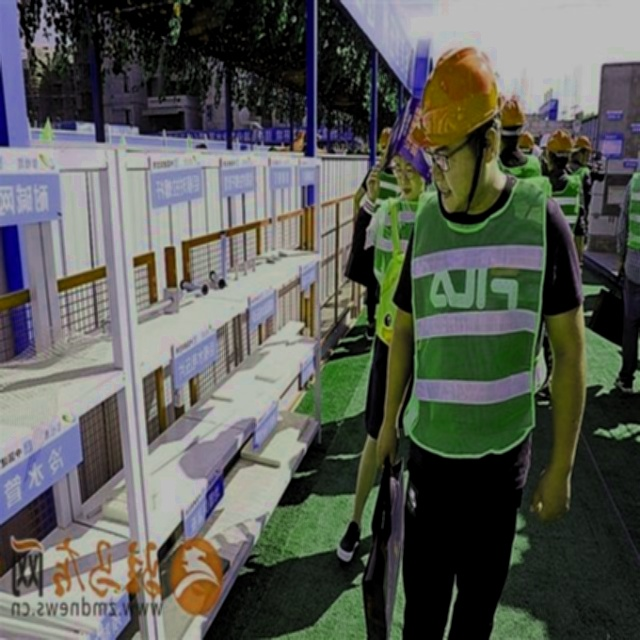Con_Casco: (411, 48, 504, 200)
Con_Chaleco: (405, 176, 551, 456)
